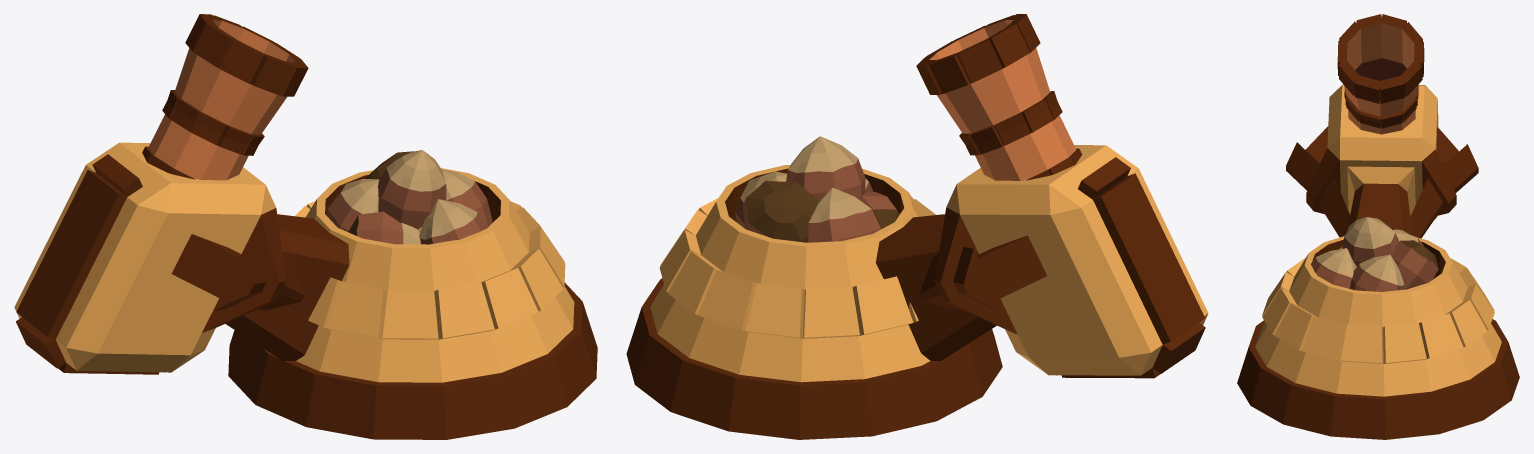
The model's file is fındıkatarlevel2.fbx.
3 renders of one model, left to right at view 1: azimuth 30°, elevation 25°; view 2: azimuth 150°, elevation 25°; view 3: azimuth 270°, elevation 25°, orthographic. The views are drawn at different scales.
Visible parts, largest first — view 1: parentli kurdanatar.023, Cube.137; view 2: parentli kurdanatar.023, Cube.137; view 3: parentli kurdanatar.023, Cube.137.
Boxes of the visible parts, x1,y1,x2,y2 form: parentli kurdanatar.023: (228, 150, 597, 439); Cube.137: (14, 14, 349, 374); parentli kurdanatar.023: (626, 136, 1002, 439); Cube.137: (875, 14, 1208, 378); parentli kurdanatar.023: (1237, 217, 1519, 439); Cube.137: (1286, 14, 1478, 238).
Bounding box in the file's own units: 404 × 276 × 243.
3 materials, 3 textured.
